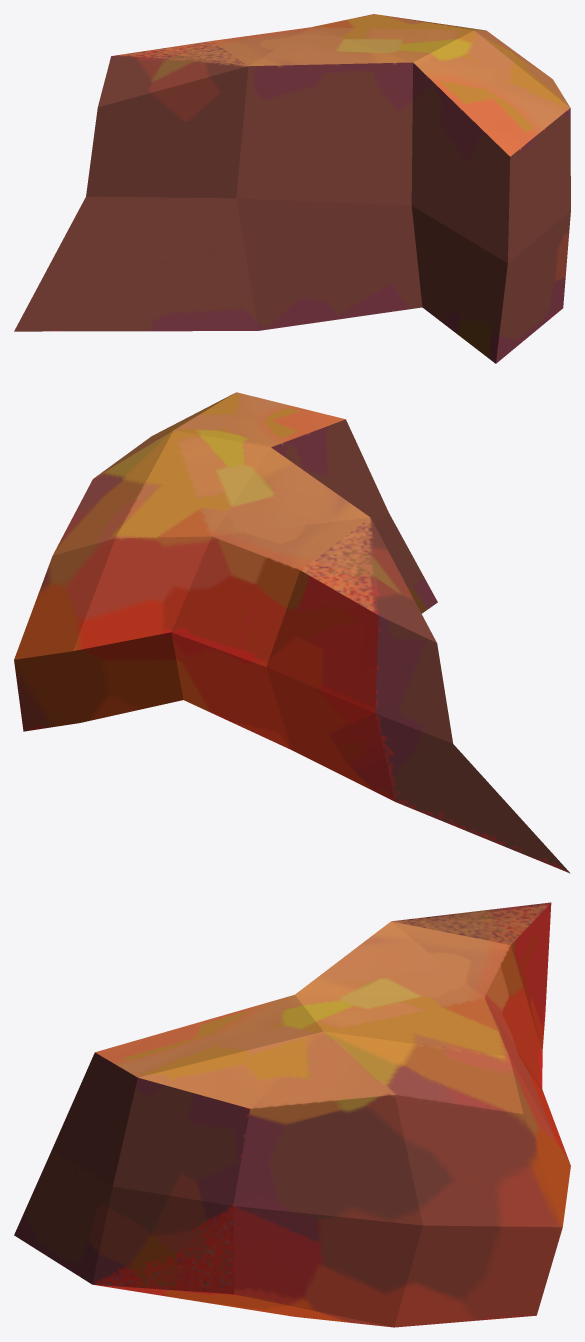
Rendered from Grips1Broken.fbx.
3 renders of one model, top to bottom at view 1: azimuth 30°, elevation 25°; view 2: azimuth 150°, elevation 25°; view 3: azimuth 270°, elevation 25°, orthographic. The views are drawn at different scales.
Visible parts, largest first — view 1: Grips1Broken; view 2: Grips1Broken; view 3: Grips1Broken.
Boxes of the visible parts, x1,y1,x2,y2 form: Grips1Broken: (14,14,570,363); Grips1Broken: (14,392,570,873); Grips1Broken: (14,902,570,1327).
Bounding box in the file's own units: 2.31 × 2.72 × 1.38.
1 material, 1 textured.
